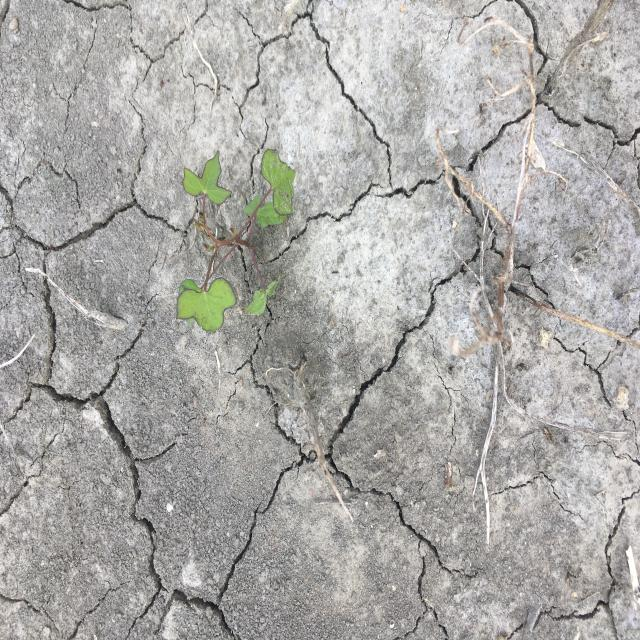MorningGlory: (174, 146, 298, 335)
